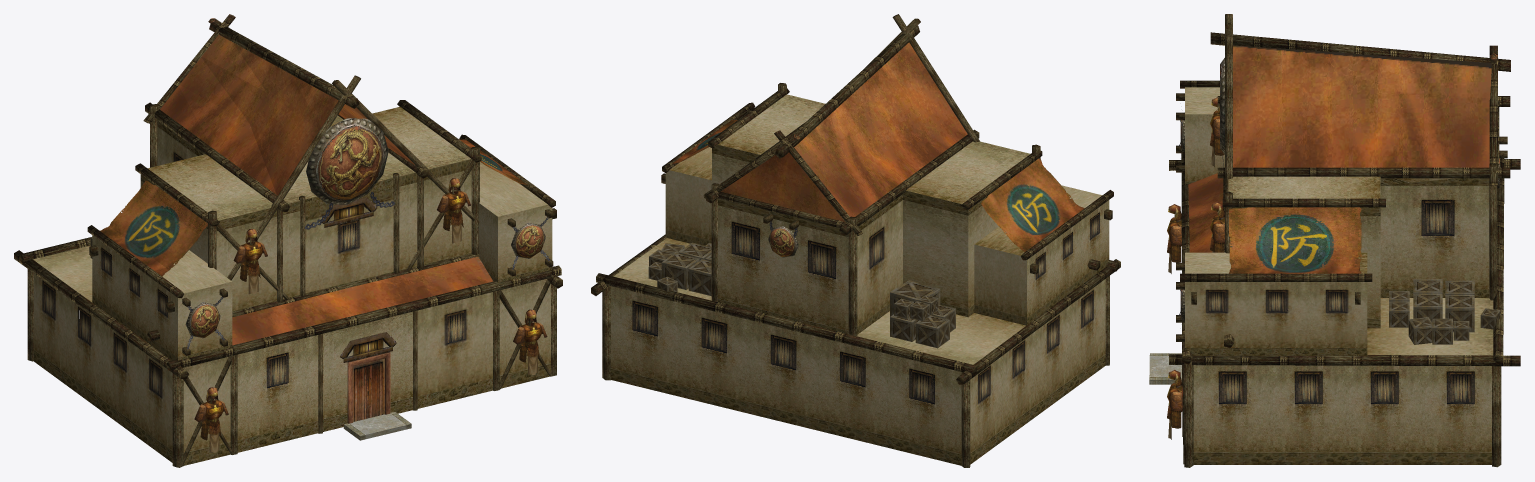
File: w_cd_armo.glb
3 renders of one model, left to right at view 1: azimuth 30°, elevation 25°; view 2: azimuth 150°, elevation 25°; view 3: azimuth 270°, elevation 25°, orthographic. The views are drawn at different scales.
Visible parts, largest first — view 1: w_cd_armo-wall, w_cd_armo_shield, w_cd_armo_shield_a, w_cd_armo-winlight, w_cd_armo_armor, w_cd_armo_armor_a; view 2: w_cd_armo-wall, w_cd_armo_shield_a, w_cd_armo_shield, w_cd_armo-winlight, w_cd_armo_box02, w_cd_armo_box01; view 3: w_cd_armo-wall, w_cd_armo_shield_a, w_cd_armo_shield, w_cd_armo_box01, w_cd_armo-winlight, w_cd_armo_armor_a, w_cd_armo_armor.
Part boxes in pixels (x1,y1,x2,y2): w_cd_armo-wall: [32, 107, 552, 465]; w_cd_armo_shield: [14, 14, 562, 467]; w_cd_armo_shield_a: [100, 34, 549, 349]; w_cd_armo-winlight: [43, 156, 464, 395]; w_cd_armo_armor: [200, 178, 542, 434]; w_cd_armo_armor_a: [194, 193, 547, 452]; w_cd_armo-wall: [611, 94, 1109, 465]; w_cd_armo_shield_a: [672, 42, 1084, 251]; w_cd_armo_shield: [591, 14, 1120, 467]; w_cd_armo-winlight: [635, 215, 1098, 401]; w_cd_armo_box02: [890, 280, 955, 348]; w_cd_armo_box01: [648, 242, 711, 296]; w_cd_armo-wall: [1149, 87, 1493, 464]; w_cd_armo_shield_a: [1178, 46, 1491, 315]; w_cd_armo_shield: [1169, 14, 1520, 467]; w_cd_armo_box01: [1389, 279, 1500, 344]; w_cd_armo-winlight: [1208, 203, 1471, 402]; w_cd_armo_armor_a: [1168, 119, 1224, 439]; w_cd_armo_armor: [1167, 97, 1224, 419].
Bounding box in the file's own units: 28.14 × 22.68 × 21.68.
8 materials, 8 textured.
